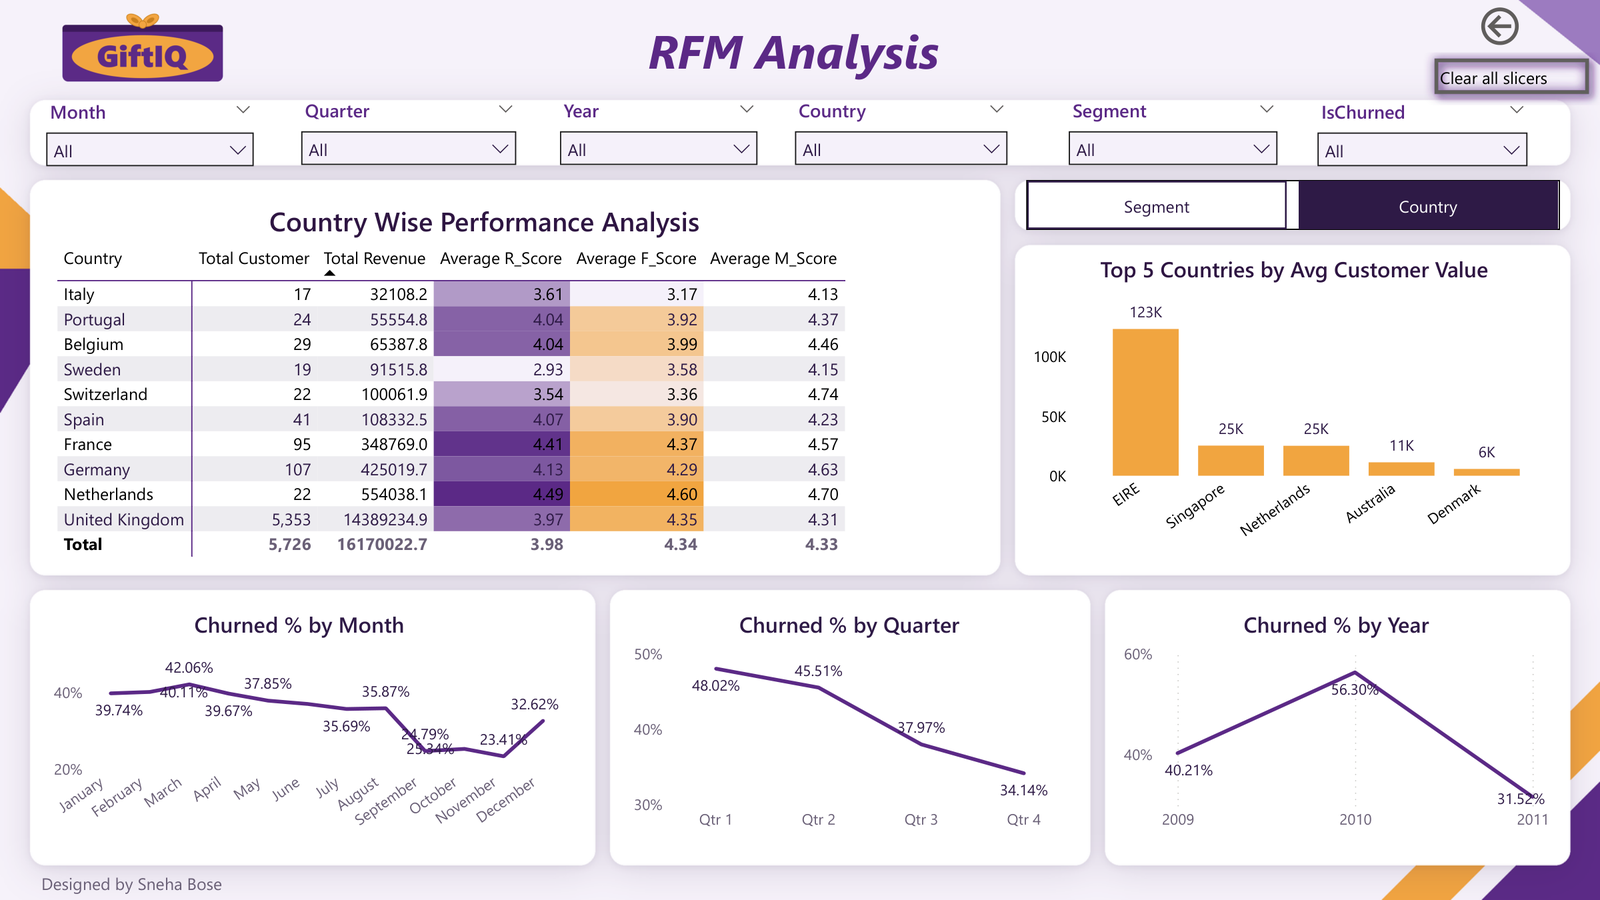

Layout of this report page (visuals, bound fields, positions):
{"tool":"powerbi","page":{"name":"RFM Analysis","canvas":[1280,720],"ordinal":2},"visuals":[{"type":"slicer","fields":{"Values":["Sheet1.InvoiceMonth.Variation.Date Hierarchy.Month"]},"box":[27.4,74.1,185.2,60.4],"z":0},{"type":"columnChart","title":"Top 5 Countries by Avg Customer Value","fields":{"Category":["Sheet1.Country"],"Y":["Sheet1.Average Customer Value"]},"box":[821.2,202.5,428.8,250],"z":0,"group":"g2"},{"type":"lineChart","fields":{"Category":["Sheet1.InvoiceMonth.Variation.Date Hierarchy.Year"],"Y":["Sheet1.Churned %"]},"box":[894.6,487.1,349.9,186.6],"z":0,"group":"g1"},{"type":"slicer","fields":{"Values":["Sheet1.InvoiceMonth.Variation.Date Hierarchy.Quarter"]},"box":[230.5,72.7,192.1,61.7],"z":1000},{"type":"pivotTable","title":"Country Wise Performance Analysis","fields":{"Rows":["Sheet1.Country"],"Values":["Sheet1.Total Customer","Sheet1.Total Revenue","Avg(Sheet1.R_Score)","Avg(Sheet1.F_Score)","Avg(Sheet1.M_Score)"]},"box":[40.9,162,692.5,295],"z":1000,"group":"g2"},{"type":"lineChart","fields":{"Category":["Sheet1.InvoiceMonth.Variation.Date Hierarchy.Month"],"Y":["Sheet1.Churned %"]},"box":[27.4,487.1,425.4,186.6],"z":1000,"group":"g1"},{"type":"slicer","fields":{"Values":["Sheet1.InvoiceMonth.Variation.Date Hierarchy.Year"]},"box":[437.7,72.7,178.4,61.7],"z":2000},{"type":"lineChart","fields":{"Category":["Sheet1.InvoiceMonth.Variation.Date Hierarchy.Quarter"],"Y":["Sheet1.Churned %"]},"box":[502.2,487.1,355.4,186.6],"z":2000,"group":"g1"},{"type":"slicer","fields":{"Values":["Sheet1.Country"]},"box":[625.7,72.7,190.7,61.7],"z":3000},{"type":"slicer","fields":{"Values":["Sheet1.Segment"]},"box":[845.3,72.7,186.6,61.7],"z":4000},{"type":"slicer","fields":{"Values":["Sheet1.IsChurned"]},"box":[1044.3,74.1,188,60.4],"z":5000},{"type":"group","id":"g1","title":"Revenue","box":[27.4,487.1,1217.2,186.6],"z":7000},{"type":"bookmarkNavigator","box":[820.9,143.6,427,40.5],"z":8000},{"type":"textbox","box":[27.5,692.5,171.2,27.5],"z":9000},{"type":"image","box":[27.5,0,171.2,73.8],"z":10000},{"type":"textbox","box":[464.4,10,351.2,62.5],"z":11000},{"type":"actionButton","box":[1180,1.2,100,40],"z":12000},{"type":"actionButton","box":[1138.8,37.5,141.2,46.2],"z":13000},{"type":"group","id":"g2","title":"Country","box":[40.9,162,1209.1,295],"z":15000}]}

Visuals, with their boxes in screenshot pixels (x1, y1, x2, y2), scaled from the page's 1280x720 canvas onto the 1600x900 screenshot:
slicer - Sheet1.InvoiceMonth.Variation.Date Hierarchy.Month: [34, 93, 266, 168]
"Top 5 Countries by Avg Customer Value" columnChart: [1026, 253, 1562, 566]
lineChart - Sheet1.InvoiceMonth.Variation.Date Hierarchy.Year x Sheet1.Churned %: [1118, 609, 1556, 842]
slicer - Sheet1.InvoiceMonth.Variation.Date Hierarchy.Quarter: [288, 91, 528, 168]
"Country Wise Performance Analysis" pivotTable: [51, 202, 917, 571]
lineChart - Sheet1.InvoiceMonth.Variation.Date Hierarchy.Month x Sheet1.Churned %: [34, 609, 566, 842]
slicer - Sheet1.InvoiceMonth.Variation.Date Hierarchy.Year: [547, 91, 770, 168]
lineChart - Sheet1.InvoiceMonth.Variation.Date Hierarchy.Quarter x Sheet1.Churned %: [628, 609, 1072, 842]
slicer - Sheet1.Country: [782, 91, 1021, 168]
slicer - Sheet1.Segment: [1057, 91, 1290, 168]
slicer - Sheet1.IsChurned: [1305, 93, 1540, 168]
"Revenue" group: [34, 609, 1556, 842]
bookmarkNavigator: [1026, 180, 1560, 230]
textbox: [34, 866, 248, 899]
image: [34, 0, 248, 92]
textbox: [580, 12, 1019, 91]
actionButton: [1475, 2, 1599, 52]
actionButton: [1424, 47, 1599, 105]
"Country" group: [51, 202, 1562, 571]
